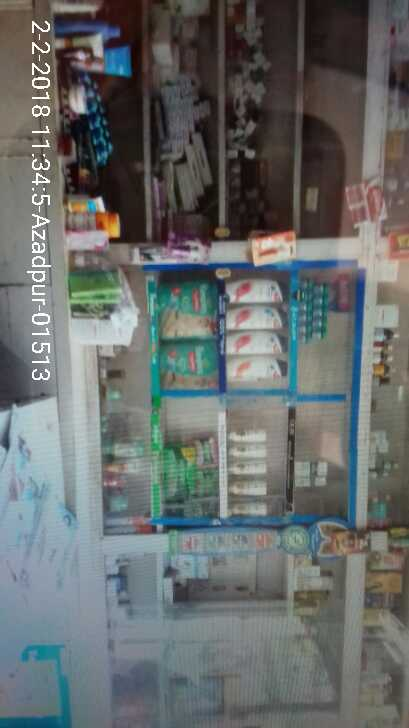vicks: (302, 277, 331, 346)
